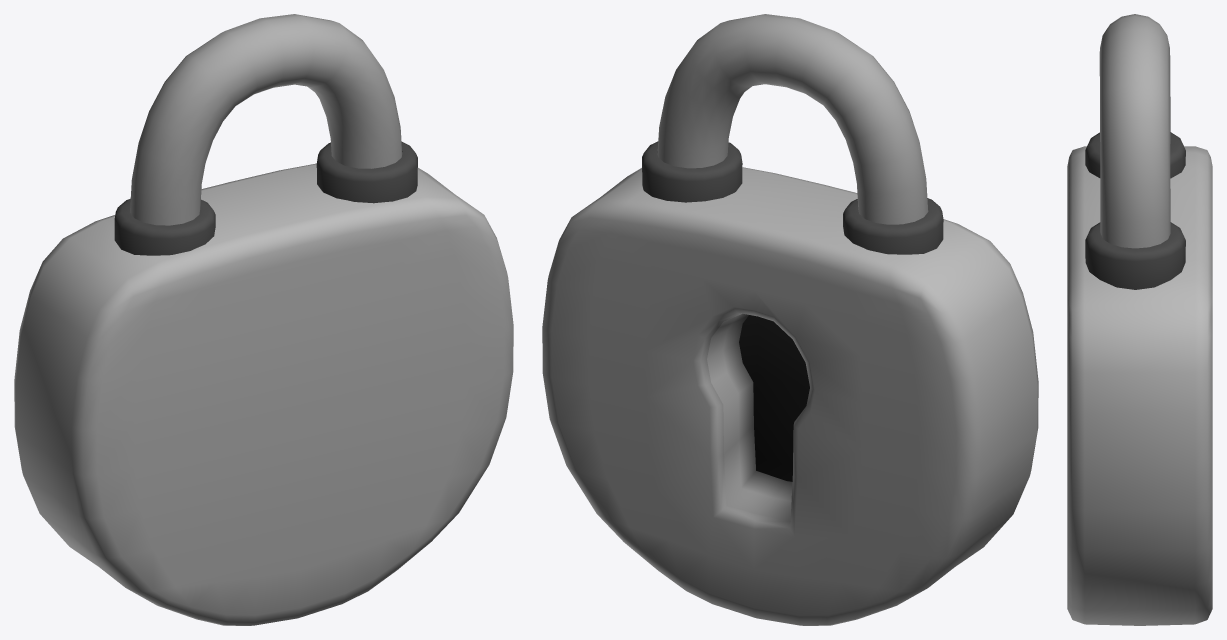
Rendered from Lock_V1_0.fbx.
3 renders of one model, left to right at view 1: azimuth 30°, elevation 25°; view 2: azimuth 150°, elevation 25°; view 3: azimuth 270°, elevation 25°, orthographic.
Parts seen in each view (by area): view 1: Lock_V1_0, Lock_V1_1; view 2: Lock_V1_0, Lock_V1_1; view 3: Lock_V1_0, Lock_V1_1.
Boxes of the visible parts, x1,y1,x2,y2 form: Lock_V1_0: (14, 142, 513, 625); Lock_V1_1: (114, 14, 402, 255); Lock_V1_0: (542, 141, 1038, 625); Lock_V1_1: (657, 14, 943, 254); Lock_V1_0: (1067, 146, 1212, 625); Lock_V1_1: (1085, 14, 1185, 248).
Bounding box in the file's own units: 0.3765 × 0.4743 × 0.1088.
Materials: 1 (1 with a texture image).
